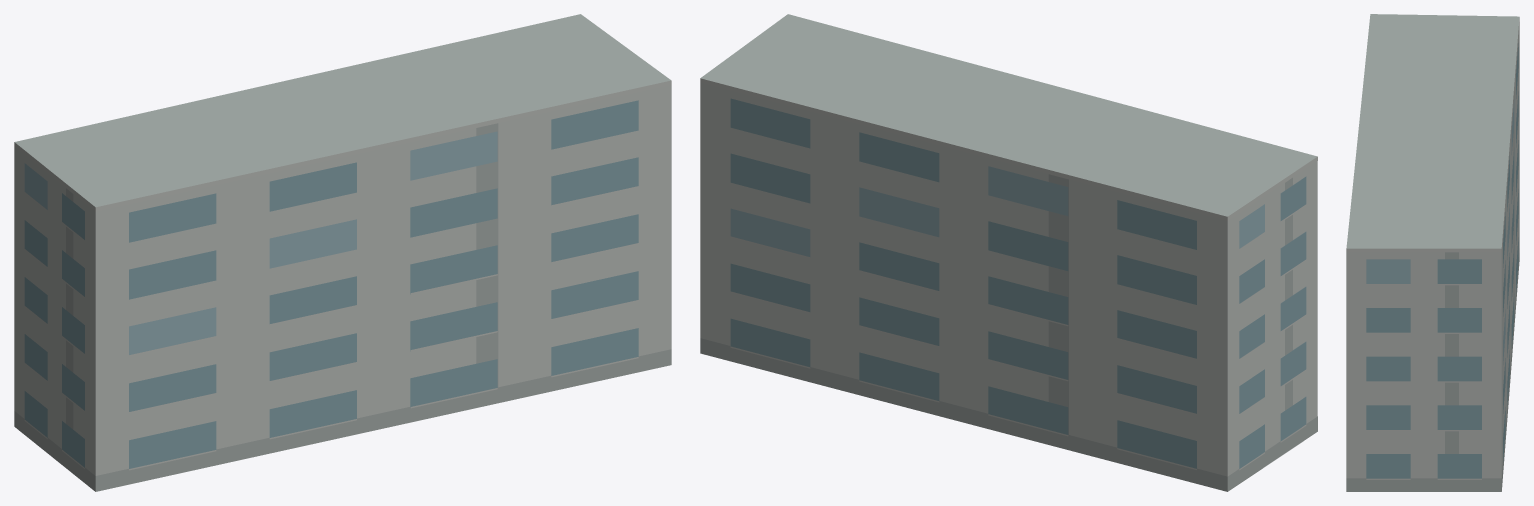
File: residential-f39af737-7e0f-4cff-b929-0474d80367ee.glb
The picture shows the model from 3 angles, left to right: view 1: azimuth 30°, elevation 25°; view 2: azimuth 150°, elevation 25°; view 3: azimuth 270°, elevation 25°; orthographic projection. The views are drawn at different scales.
Visible parts, largest first — view 1: residential-f39af737-7e0f-4cff-b929-0474d80367ee.tmp; view 2: residential-f39af737-7e0f-4cff-b929-0474d80367ee.tmp; view 3: residential-f39af737-7e0f-4cff-b929-0474d80367ee.tmp.
Boxes of the visible parts, <box> form: residential-f39af737-7e0f-4cff-b929-0474d80367ee.tmp: <box>14,14,671,491</box>; residential-f39af737-7e0f-4cff-b929-0474d80367ee.tmp: <box>700,14,1317,491</box>; residential-f39af737-7e0f-4cff-b929-0474d80367ee.tmp: <box>1346,14,1519,491</box>.
Size of the model in its own units: 31.53 by 15.25 by 9.84.
